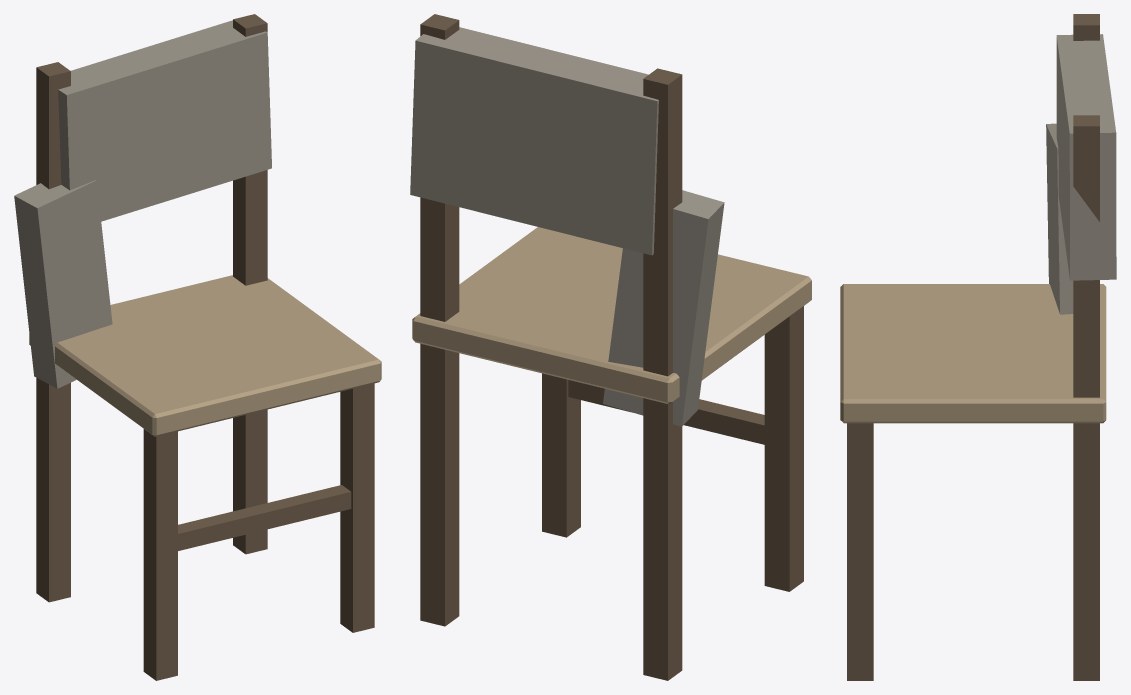
File: Dress_Chair.fbx
3 renders of one model, left to right at view 1: azimuth 30°, elevation 25°; view 2: azimuth 150°, elevation 25°; view 3: azimuth 270°, elevation 25°, orthographic. The views are drawn at different scales.
Visible parts, largest first — view 1: Dress_Chair; view 2: Dress_Chair; view 3: Dress_Chair.
Boxes of the visible parts, left/top/right/bottom form: Dress_Chair: left=14, top=14, right=381, bottom=680; Dress_Chair: left=410, top=14, right=811, bottom=680; Dress_Chair: left=840, top=14, right=1116, bottom=680.
Bounding box in the file's own units: 46.31 × 92 × 41.51.
